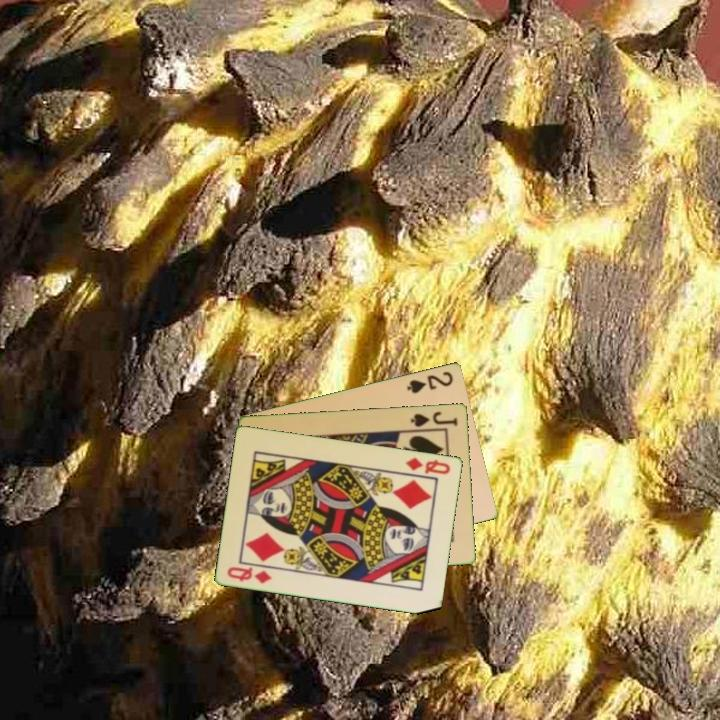2s: (403, 367, 456, 396)
Js: (407, 408, 461, 429)
Qd: (402, 454, 453, 477), (224, 563, 275, 586)
